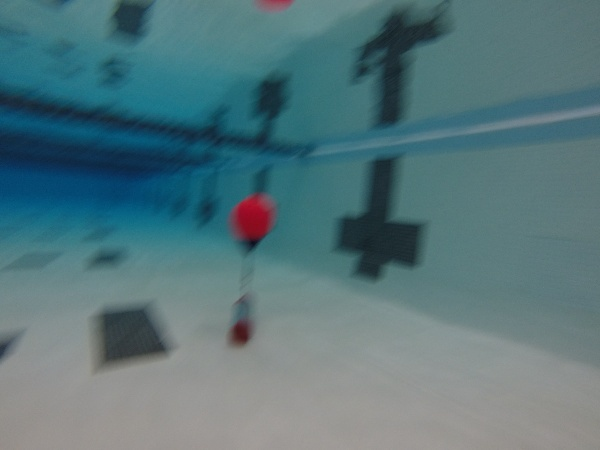buoy_red: (227, 194, 276, 261)
